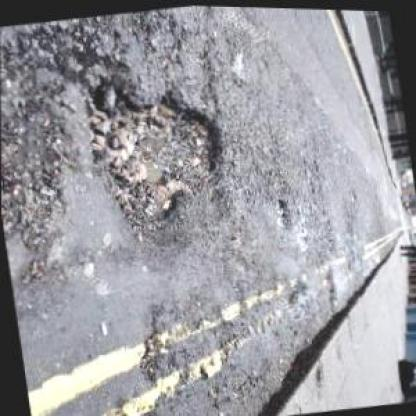pothole: (78, 57, 241, 251), (273, 197, 291, 227)
